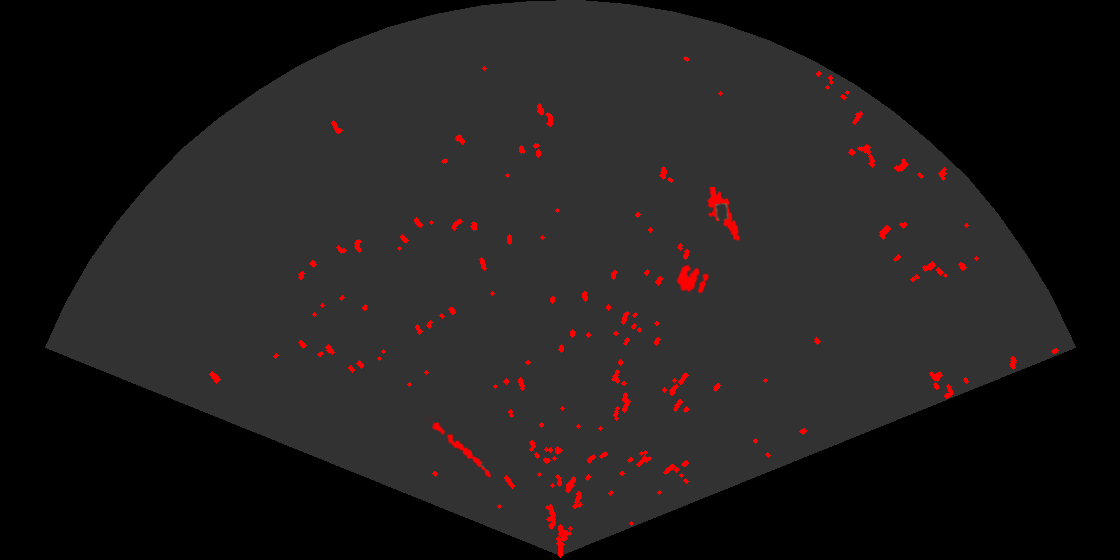ball: (675, 263, 711, 295)
chain: (426, 415, 493, 479)
frogman: (705, 187, 742, 243)
